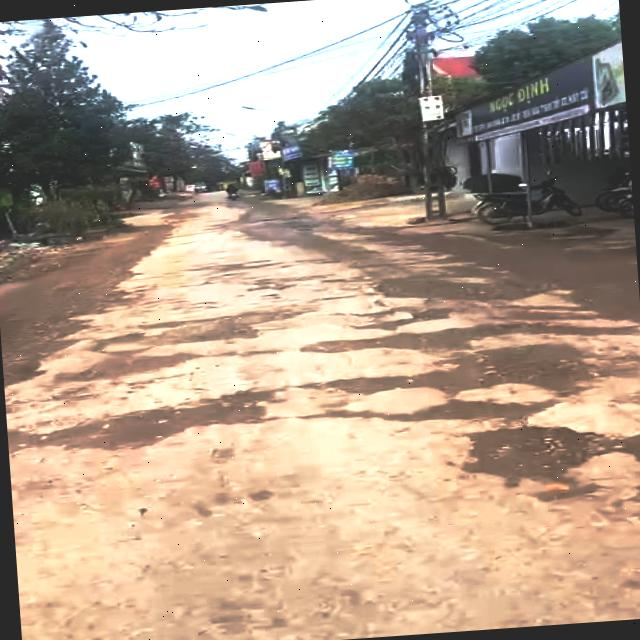pothole: (292, 333, 640, 444), (5, 384, 290, 460), (56, 304, 310, 387), (283, 304, 640, 363), (444, 415, 640, 509), (370, 261, 555, 308), (0, 313, 94, 386), (339, 297, 458, 337)
